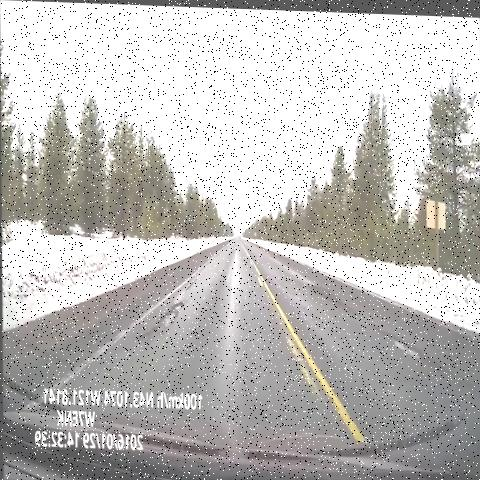pothole: (131, 285, 189, 363), (302, 268, 360, 326), (381, 317, 434, 370)
